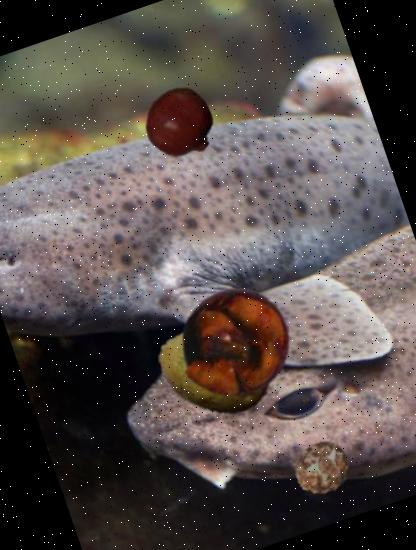Mangostan: (163, 270, 309, 416)
Papaya: (142, 296, 288, 442)
Pineapple: (286, 432, 358, 504)
Pomegranate: (136, 78, 226, 168)
